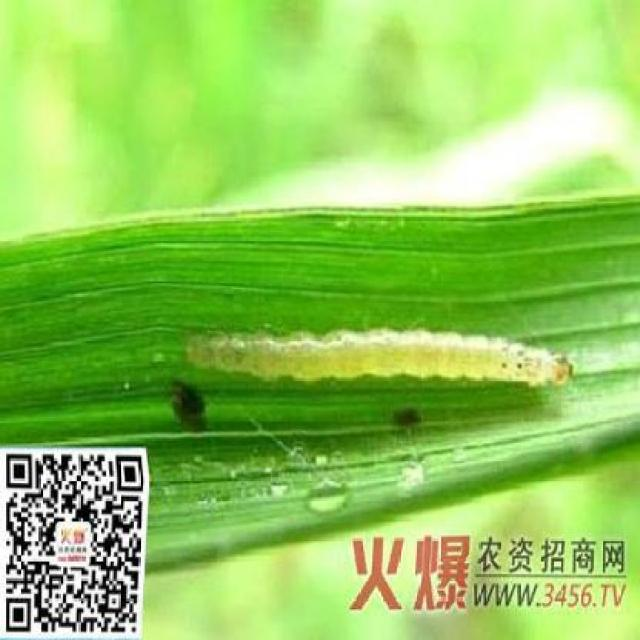leaf-folder: (175, 274, 574, 431)
